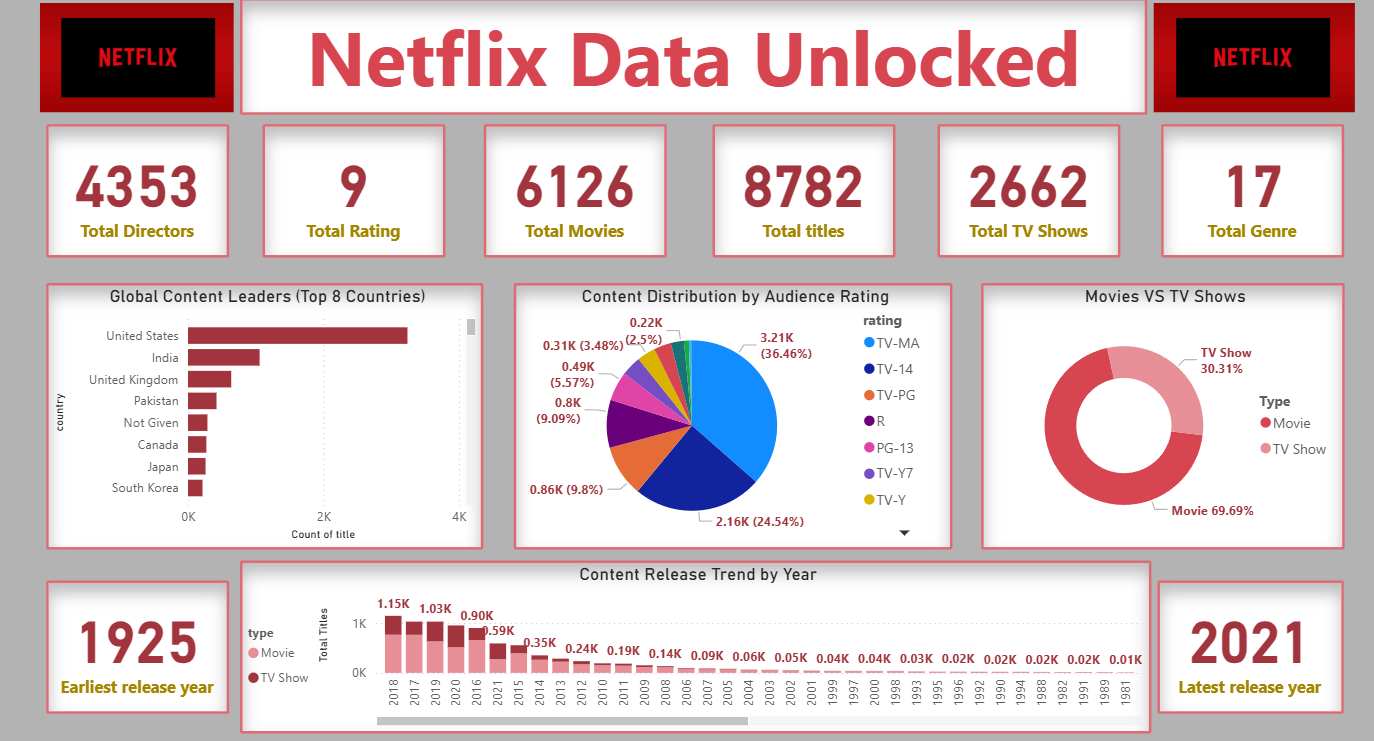

This screenshot's page, from the dashboard's own definition file:
{"tool":"powerbi","page":{"name":"Page 1","canvas":[1280,720],"ordinal":0},"visuals":[{"type":"card","fields":{"Values":["Count(netflix_cleaned.title)"]},"box":[654.5,122.1,177,129],"z":0},{"type":"card","fields":{"Values":["CountNonNull(netflix_cleaned.type)"]},"box":[433.6,122.1,177,129],"z":1000},{"type":"card","fields":{"Values":["Count(netflix_cleaned.title)"]},"box":[872.7,122.1,177,129],"z":2000},{"type":"donutChart","title":"Movies VS TV Shows","fields":{"Category":["netflix_cleaned.type"],"Y":["CountNonNull(netflix_cleaned.title)"]},"box":[913.9,275.8,351.3,258],"z":3000},{"type":"barChart","title":"Global Content Leaders (Top 8 Countries)","fields":{"Category":["netflix_cleaned.country"],"Y":["CountNonNull(netflix_cleaned.title)"]},"box":[11,275.8,422.6,258],"z":4000},{"type":"card","fields":{"Values":["Min(netflix_cleaned.release_year)"]},"box":[11,562.6,177,129],"z":5000},{"type":"card","fields":{"Values":["Max(netflix_cleaned.release_year)"]},"box":[1085.4,562.6,179.8,129],"z":6000},{"type":"columnChart","title":"Content Release Trend by Year","fields":{"Category":["netflix_cleaned.release_year"],"Y":["CountNonNull(netflix_cleaned.title)"],"Series":["netflix_cleaned.type"]},"box":[197.6,543.4,881,167.4],"z":7000},{"type":"textbox","box":[197.6,0,876.9,112.5],"z":8000},{"type":"image","box":[0,0,197.6,115.3],"z":9000},{"type":"image","box":[1075.8,0,204.5,115.3],"z":10000},{"type":"image","box":[1097.8,15.1,159.2,86.5],"z":11000},{"type":"card","fields":{"Values":["Count(netflix_cleaned.main_genre)"]},"box":[1088.2,122.1,177,129],"z":12000},{"type":"card","fields":{"Values":["Count(netflix_cleaned.rating)"]},"box":[219.6,122.1,177,129],"z":13000},{"type":"card","fields":{"Values":["Count(netflix_cleaned.director)"]},"box":[11,122.1,177,129],"z":14000},{"type":"pieChart","title":"Content Distribution by Audience Rating","fields":{"Category":["netflix_cleaned.rating"],"Y":["CountNonNull(netflix_cleaned.title)"]},"box":[462.4,275.8,424,258],"z":15000},{"type":"image","box":[20.6,15.1,159.2,86.5],"z":16000}]}

Visuals, with their boxes on the page's 1280x720 design canvas (x1, y1, x2, y2). These are canvas units, not pixel positions in the 1374x741 screenshot, which may show the page scaled, cropped or inside an application window:
card - Count(netflix_cleaned.title): left=654, top=122, right=832, bottom=251
card - CountNonNull(netflix_cleaned.type): left=434, top=122, right=611, bottom=251
card - Count(netflix_cleaned.title): left=873, top=122, right=1050, bottom=251
"Movies VS TV Shows" donutChart: left=914, top=276, right=1265, bottom=534
"Global Content Leaders (Top 8 Countries)" barChart: left=11, top=276, right=434, bottom=534
card - Min(netflix_cleaned.release_year): left=11, top=563, right=188, bottom=692
card - Max(netflix_cleaned.release_year): left=1085, top=563, right=1265, bottom=692
"Content Release Trend by Year" columnChart: left=198, top=543, right=1079, bottom=711
textbox: left=198, top=0, right=1074, bottom=112
image: left=0, top=0, right=198, bottom=115
image: left=1076, top=0, right=1280, bottom=115
image: left=1098, top=15, right=1257, bottom=102
card - Count(netflix_cleaned.main_genre): left=1088, top=122, right=1265, bottom=251
card - Count(netflix_cleaned.rating): left=220, top=122, right=397, bottom=251
card - Count(netflix_cleaned.director): left=11, top=122, right=188, bottom=251
"Content Distribution by Audience Rating" pieChart: left=462, top=276, right=886, bottom=534
image: left=21, top=15, right=180, bottom=102
